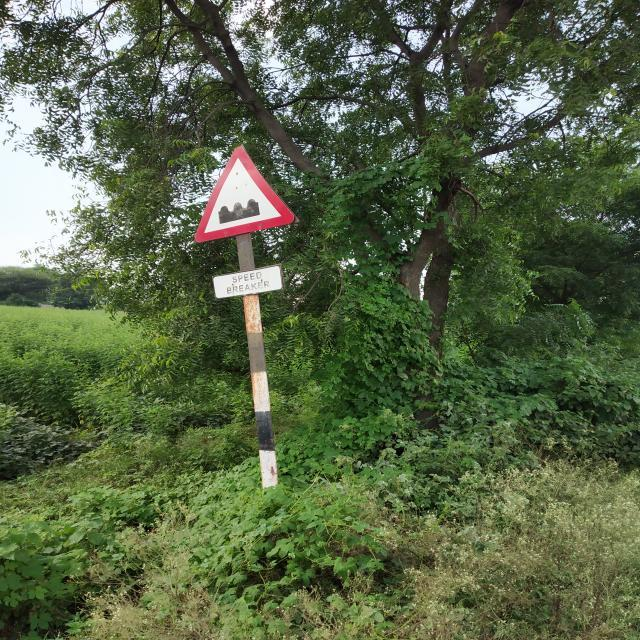hump or rough road: (193, 146, 296, 244)
